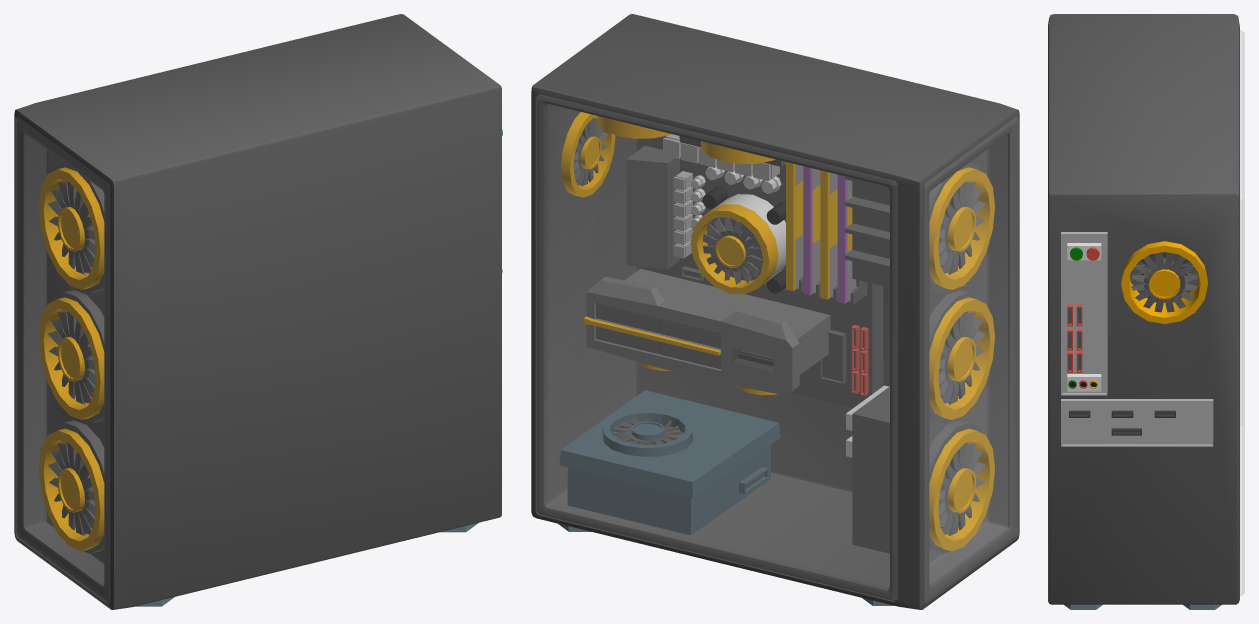
3 renders of one model, left to right at view 1: azimuth 30°, elevation 25°; view 2: azimuth 150°, elevation 25°; view 3: azimuth 270°, elevation 25°, orthographic. The views are drawn at different scales.
Parts seen in each view (by area): view 1: PC03; view 2: PC03; view 3: PC03.
Boxes of the visible parts, box(x1,y1,x2,y2) form: PC03: box(14, 14, 502, 609); PC03: box(531, 14, 1019, 609); PC03: box(1048, 14, 1244, 609).
Size of the model in its own units: 0.304 by 0.1351 by 0.3192.
